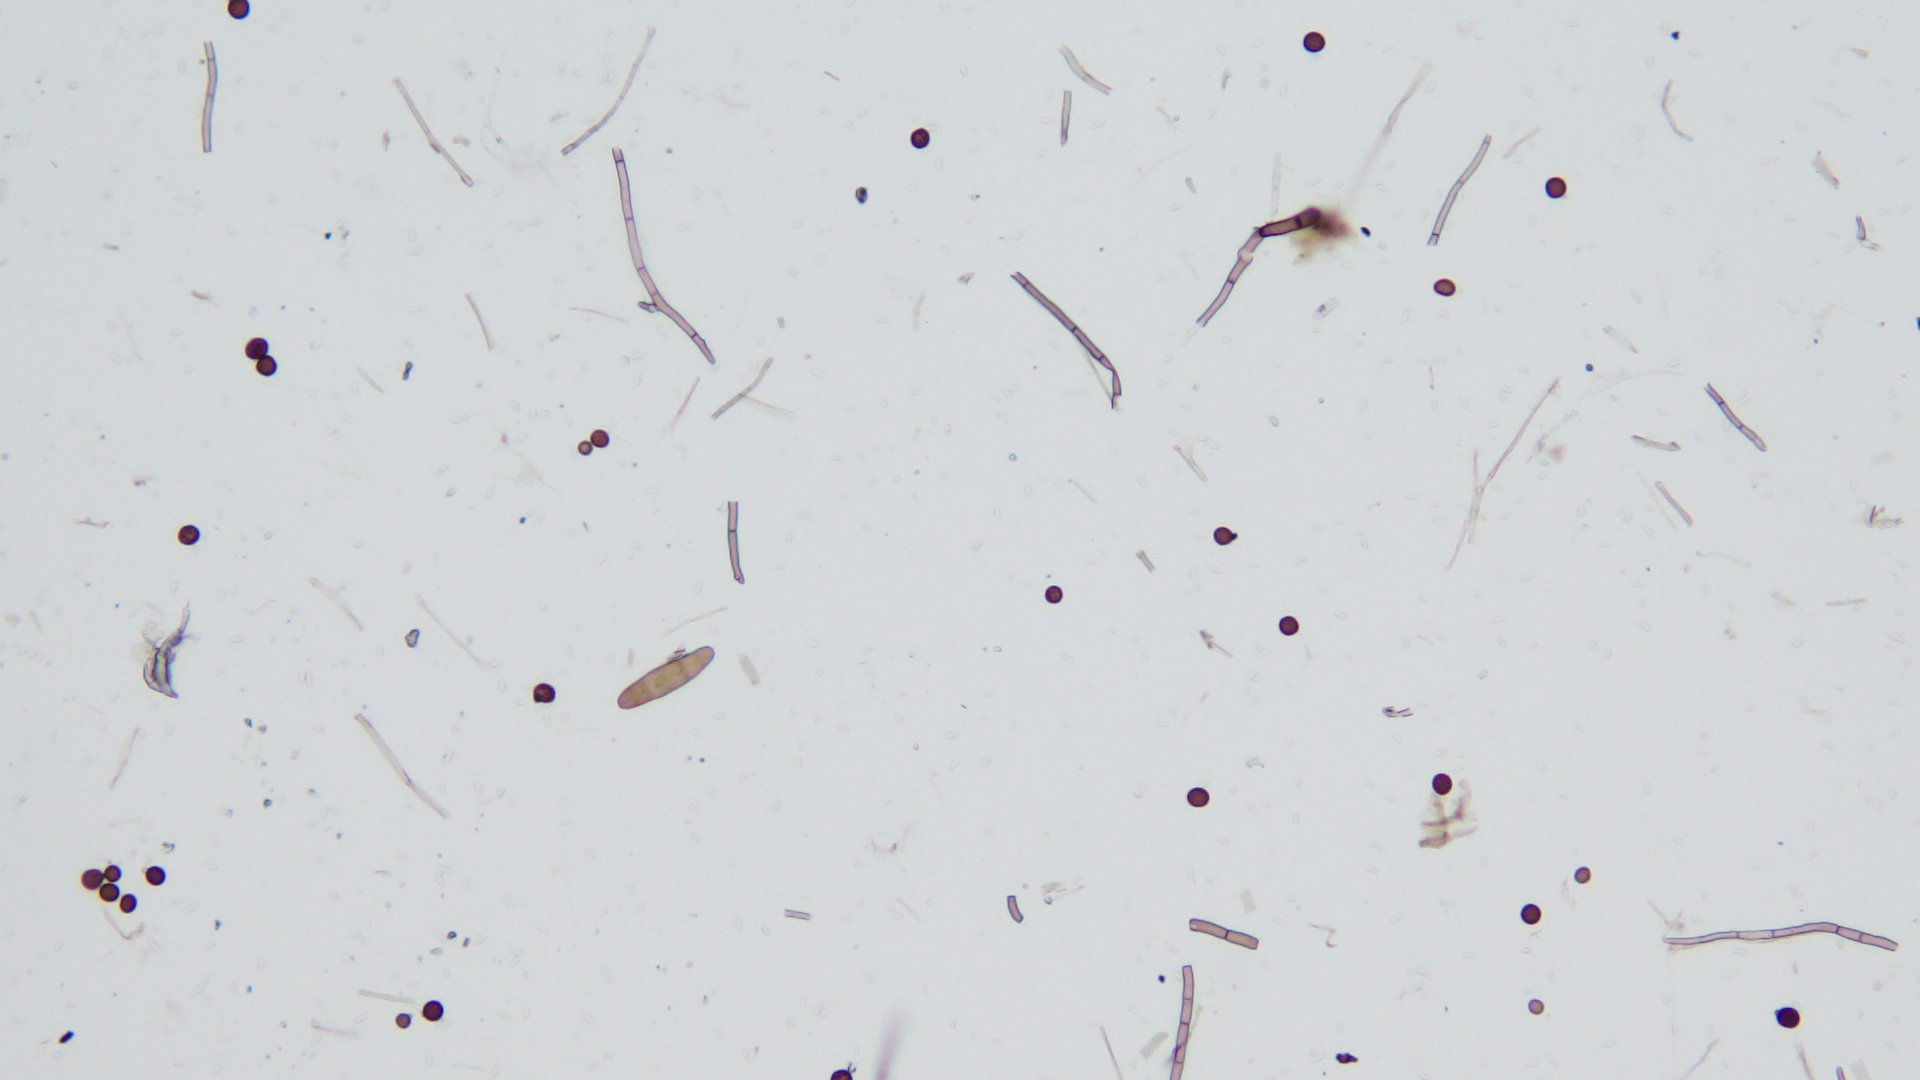dbb_spore: (618, 645, 715, 713)
shs_spore: (219, 1, 255, 20), (419, 998, 444, 1023), (1187, 785, 1211, 808), (1302, 30, 1327, 53), (1429, 773, 1453, 795), (1519, 905, 1543, 927), (531, 683, 556, 704), (80, 869, 105, 890), (243, 339, 269, 359), (177, 524, 200, 545), (1212, 526, 1236, 547), (910, 127, 930, 150), (1543, 177, 1567, 196), (1775, 1009, 1799, 1029), (589, 429, 611, 448), (119, 894, 138, 915), (1572, 866, 1593, 886), (144, 866, 166, 885), (1276, 617, 1299, 636), (1043, 585, 1063, 605), (102, 865, 123, 884), (98, 885, 119, 903), (1432, 280, 1456, 295), (257, 357, 276, 377), (1526, 1000, 1547, 1015), (394, 1014, 413, 1029)
